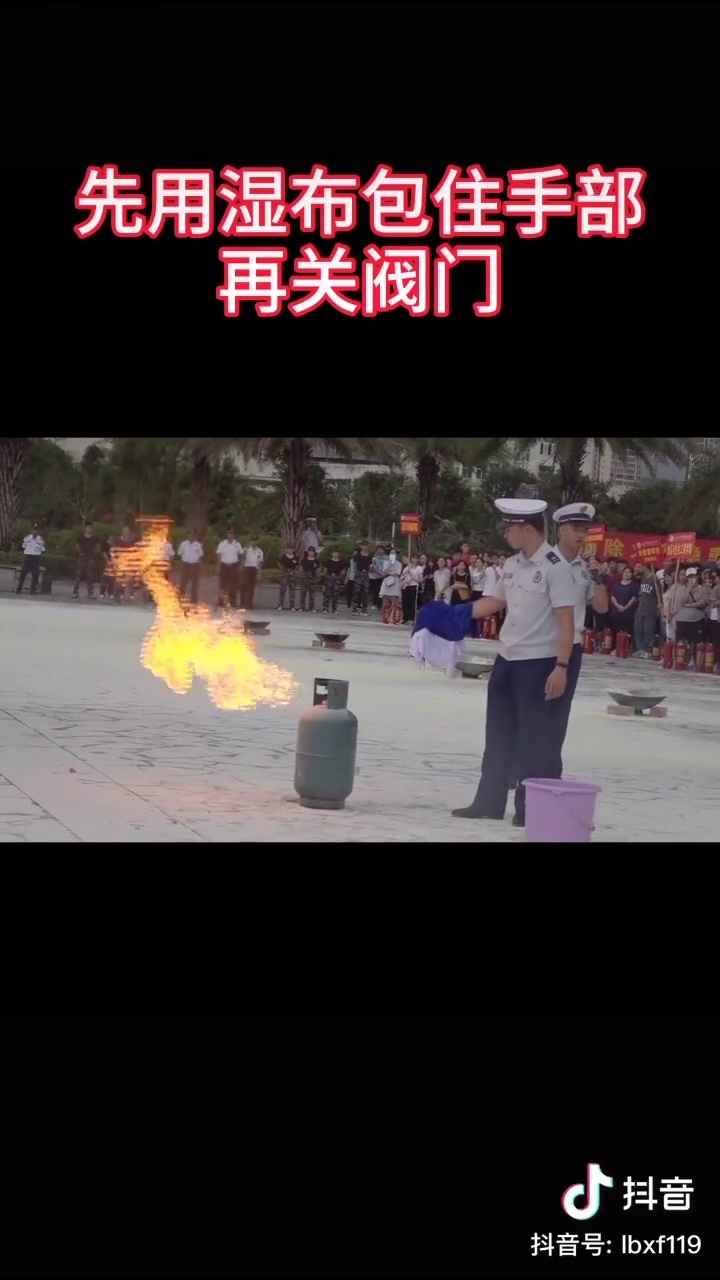fire: (111, 530, 288, 710)
